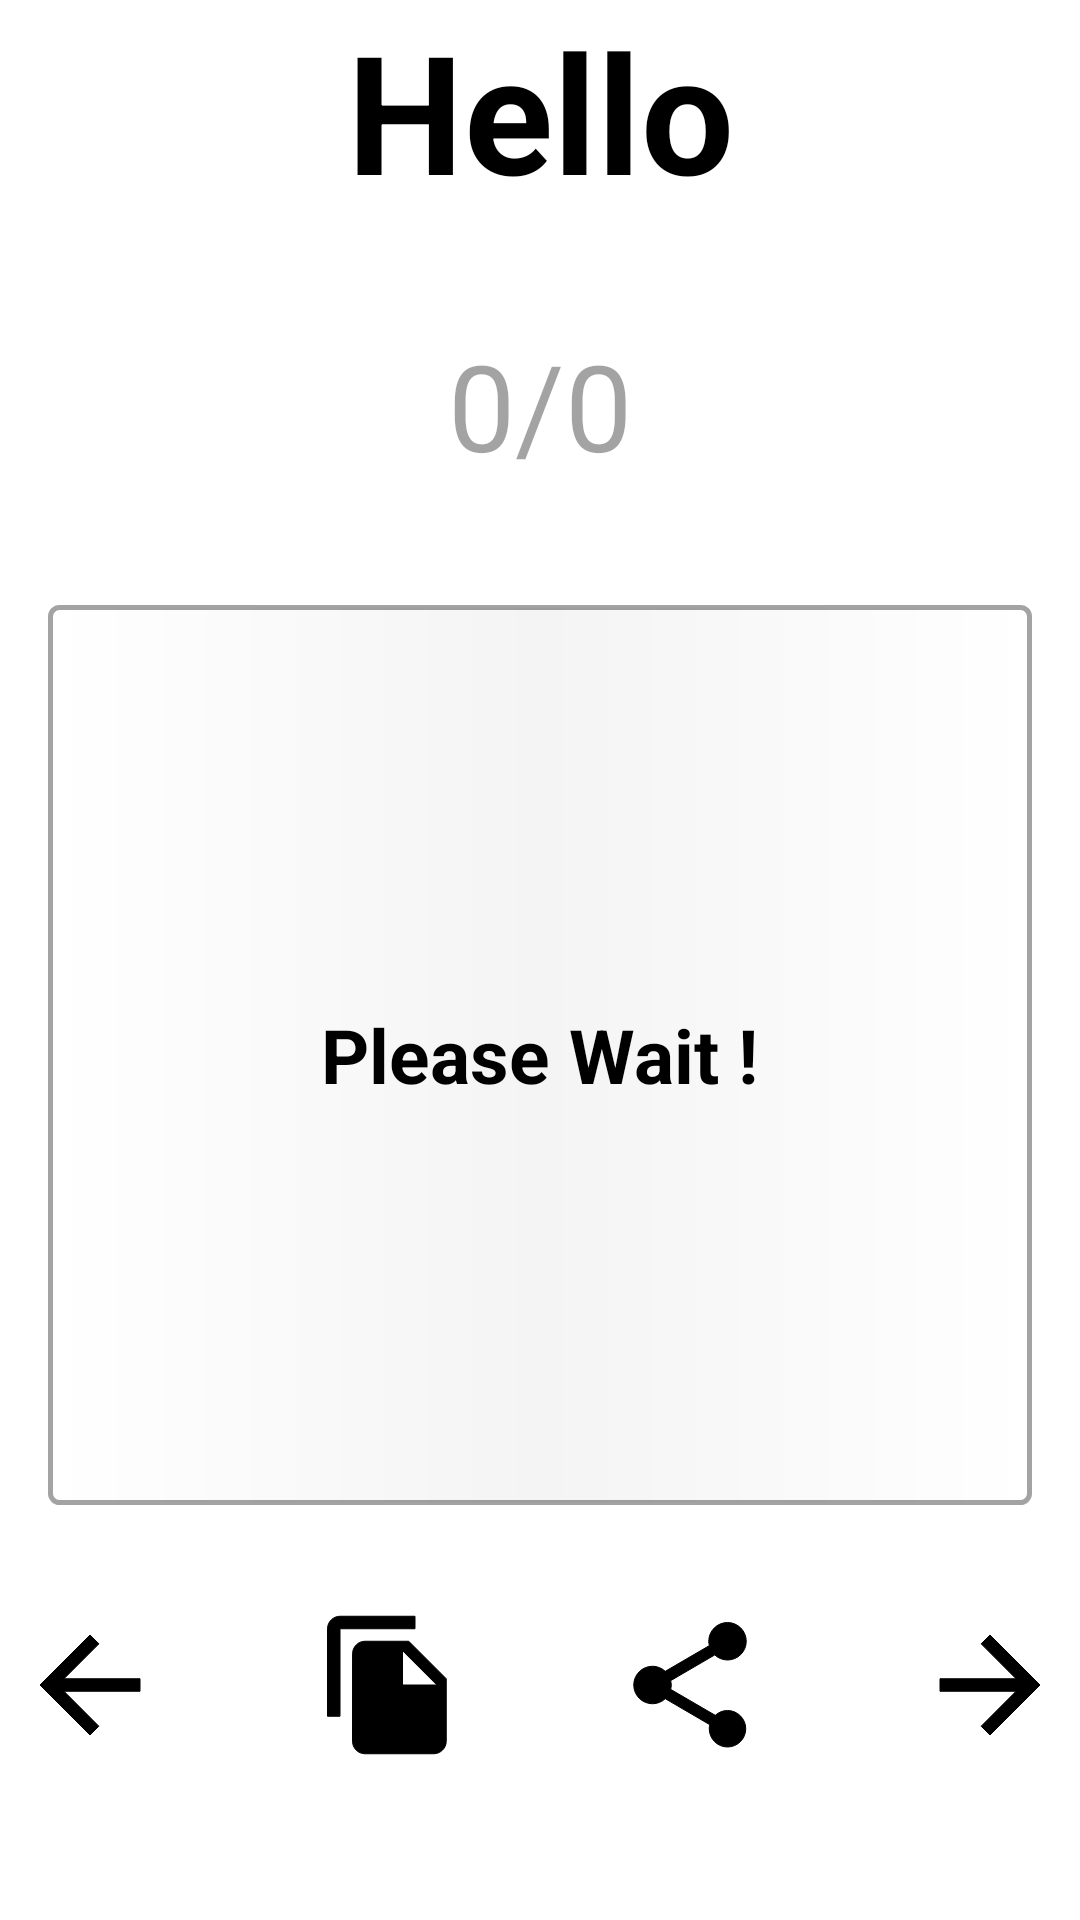

Point at icon controls on the screen. Image size 1080 × 1920, points as [x,y].
arrow back: [90,1685]
arrow forward: [989,1685]
file: [387,1685]
share: [690,1685]
